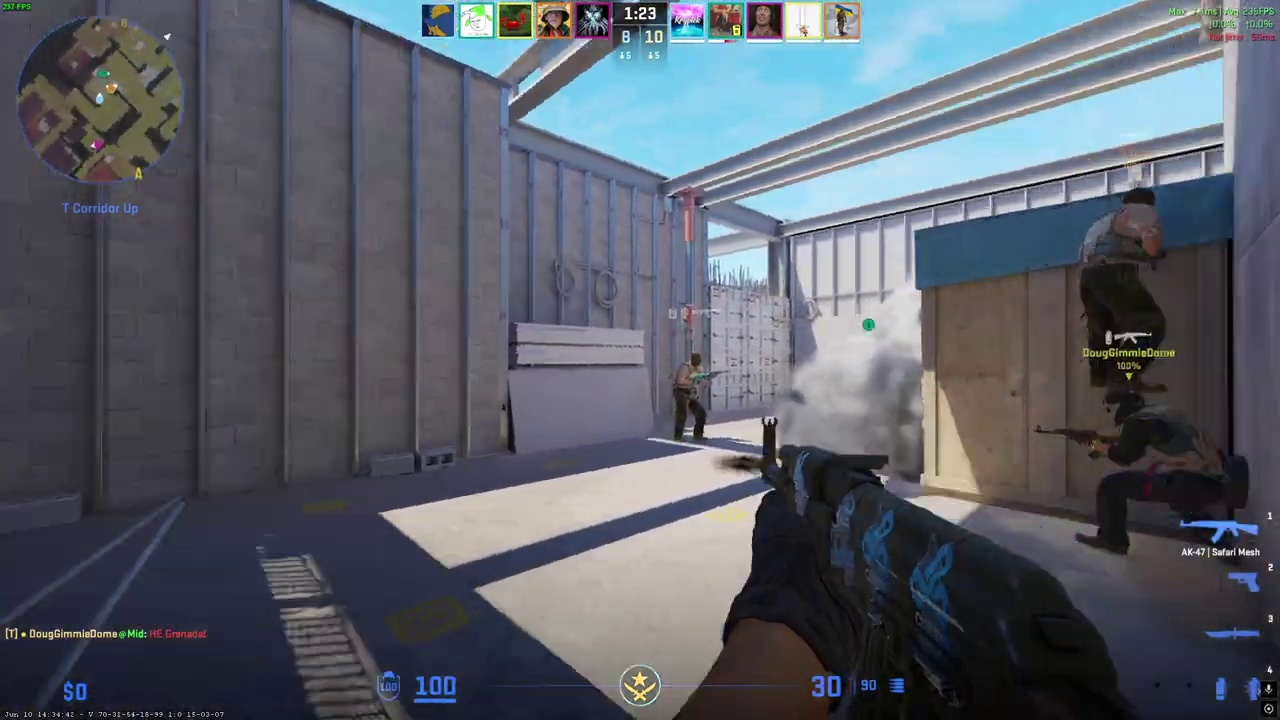Terrorist: (1078, 385, 1231, 553), (1077, 187, 1168, 393), (672, 352, 711, 442)
